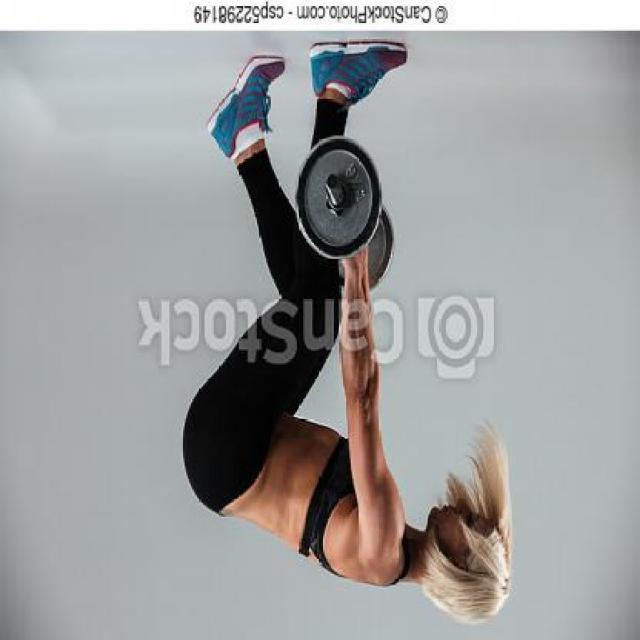Barbell: (323, 170, 340, 193)
